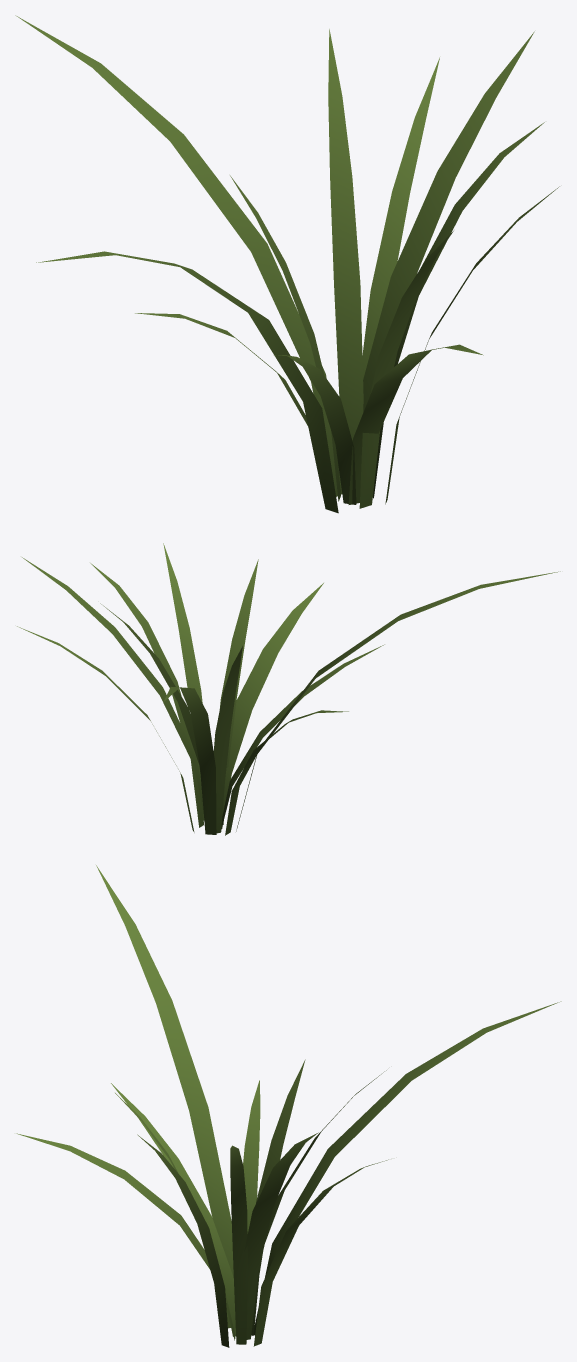
File: MeadowGrass_3_lod0.glb
The picture shows the model from 3 angles, top to bottom: view 1: azimuth 30°, elevation 25°; view 2: azimuth 150°, elevation 25°; view 3: azimuth 270°, elevation 25°; orthographic projection. The views are drawn at different scales.
Parts seen in each view (by area): view 1: MeadowGrass_3_lod0; view 2: MeadowGrass_3_lod0; view 3: MeadowGrass_3_lod0.
Boxes of the visible parts, box(x1,y1,x2,y2) form: MeadowGrass_3_lod0: box(15, 15, 559, 513); MeadowGrass_3_lod0: box(17, 543, 560, 835); MeadowGrass_3_lod0: box(16, 865, 561, 1347).
Bounding box in the file's own units: 0.5998 × 0.3617 × 0.5678.
